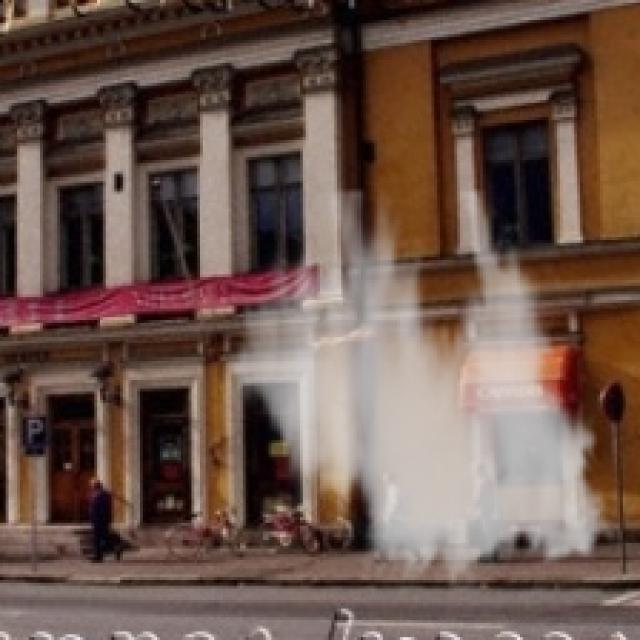Smoke: (220, 188, 626, 594)
